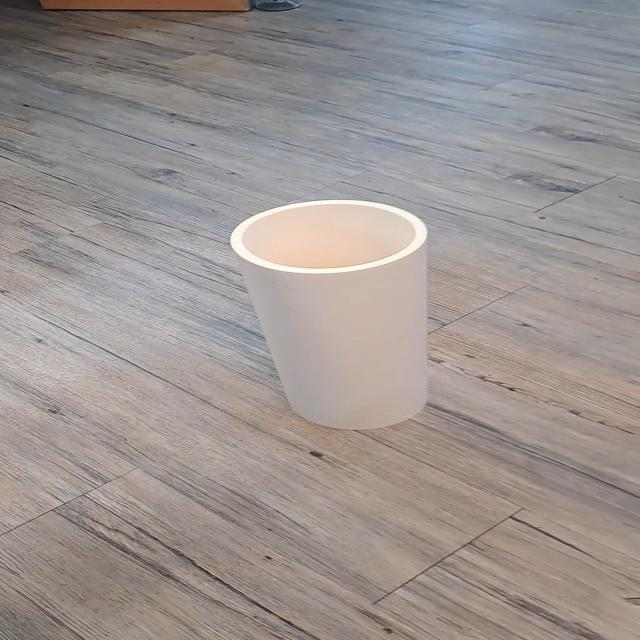CORAL: (181, 192, 504, 444)
